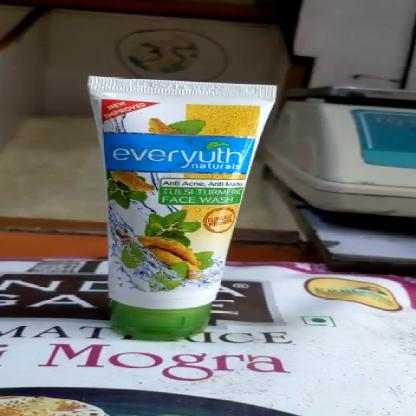EY AAAM TULSI TURMERIC FACEWASH50G: (96, 78, 256, 340)
